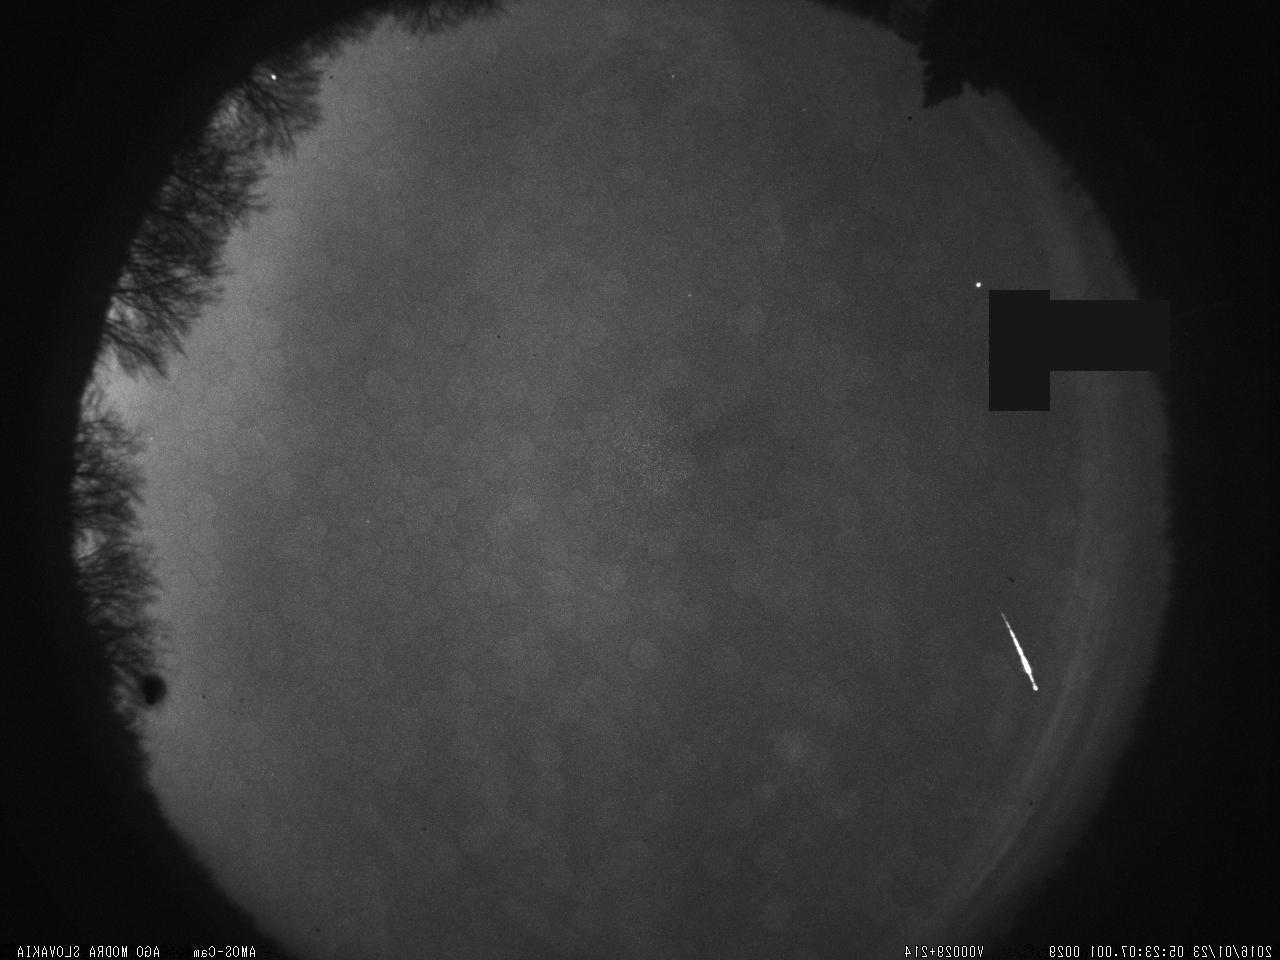meteor: (992, 602, 1040, 699)
